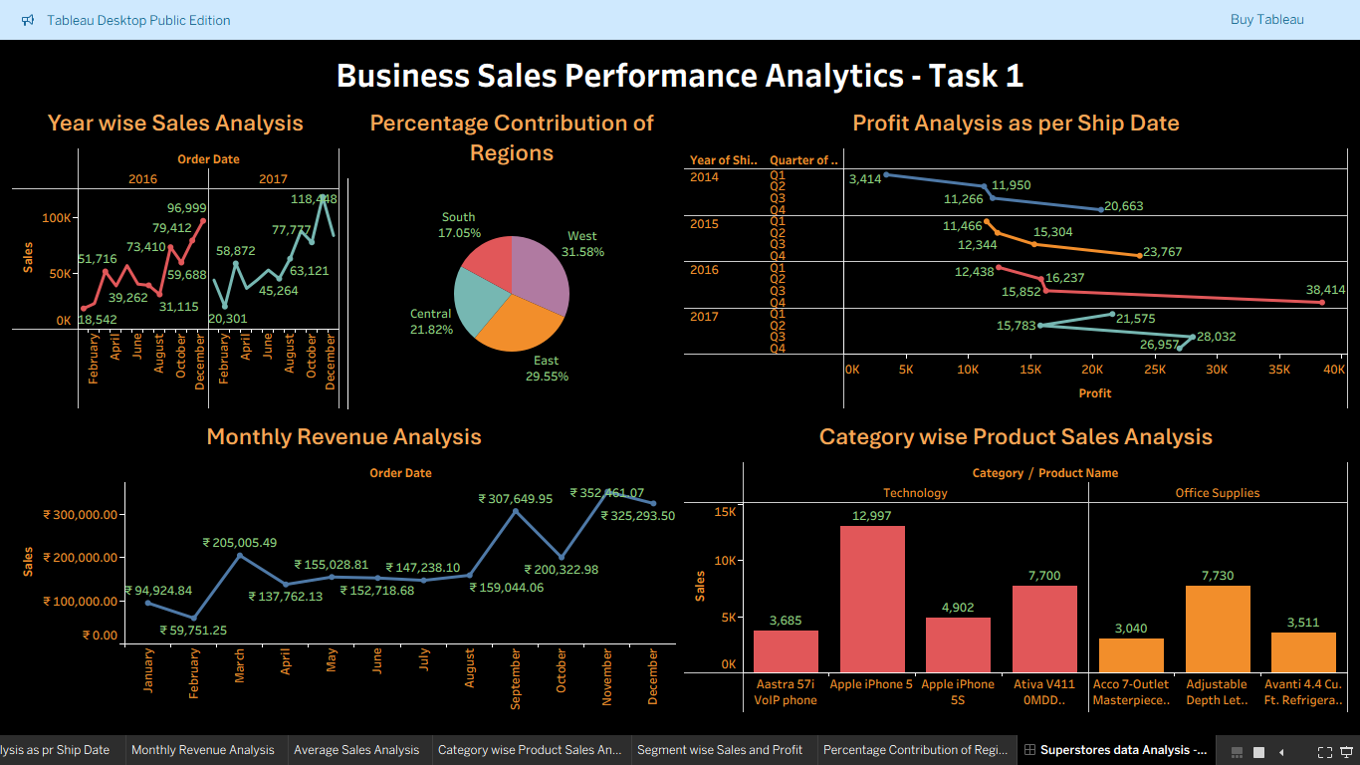

What the dashboard file says about the page in this screenshot:
{"tool":"tableau","page":{"name":"Superstores data Analysis - Task 1","canvas":[1000,1000],"units":"permille","ordinal":0},"visuals":[{"type":"title","box":[6.9,14.5,986.1,94.2]},{"type":"worksheet","title":"Year wise Sales Analysis","mark":"Automatic","rows":["Sales"],"cols":["Order Date","Order Date"],"box":[6.9,108.7,246.4,438.3]},{"type":"worksheet","title":"Percentage Contribution of Regions","mark":"Pie","box":[253.4,108.7,246.6,438.3]},{"type":"worksheet","title":"Profit Analysis as pr Ship Date","mark":"Automatic","rows":["Ship Date","Ship Date"],"cols":["Profit"],"box":[499.9,108.7,493.1,438.3]},{"type":"worksheet","title":"Monthly Revenue Analysis","mark":"Automatic","rows":["Sales"],"cols":["Order Date"],"box":[6.9,547,493,438.5]},{"type":"worksheet","title":"Category wise Product Sales Analysis","mark":"Automatic","rows":["Sales"],"cols":["Category","Product Name"],"box":[499.9,547,493.1,438.5]}]}

Visuals, with their boxes on the dashboard's canvas, which has no fixed pixel size, in thousandths of its width and height (x1, y1, x2, y2). These are canvas units, not pixel positions in the 1360x765 screenshot, which may show the page scaled, cropped or inside an application window:
title: (7,14,993,109)
"Year wise Sales Analysis" worksheet: (7,109,253,547)
"Percentage Contribution of Regions" worksheet (Pie marks): (253,109,500,547)
"Profit Analysis as pr Ship Date" worksheet: (500,109,993,547)
"Monthly Revenue Analysis" worksheet: (7,547,500,986)
"Category wise Product Sales Analysis" worksheet: (500,547,993,986)
